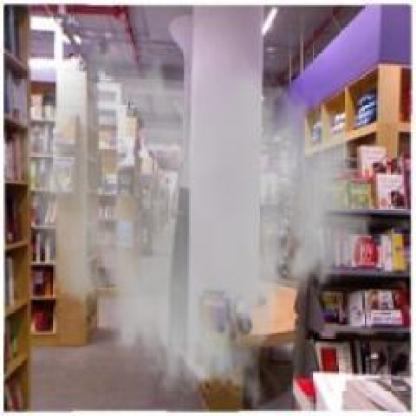Smoke: (13, 41, 377, 408)
